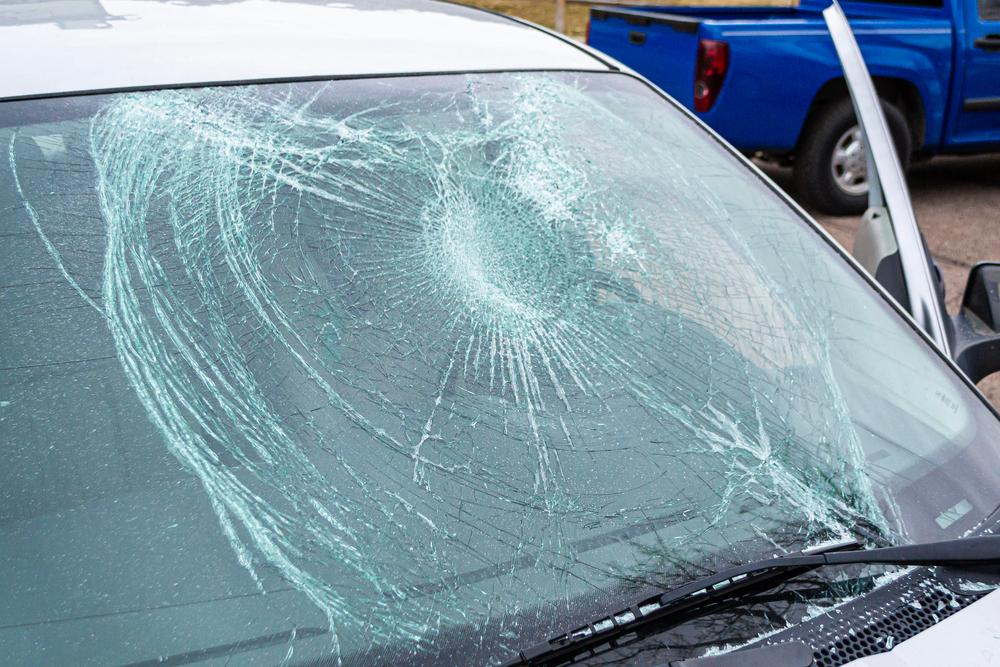glass shatter: (0, 70, 1000, 667)
